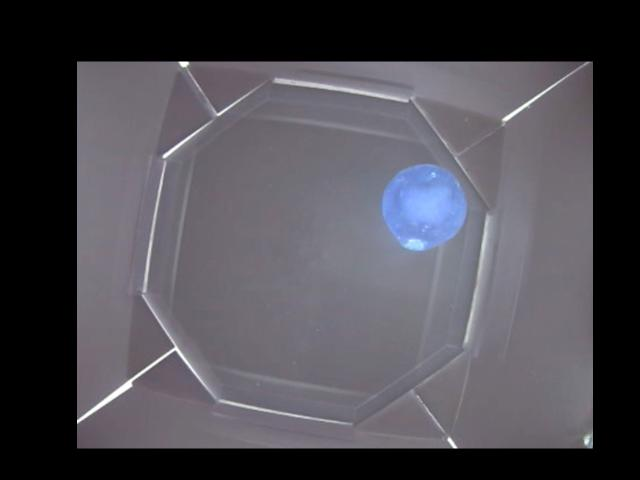Potato: (384, 167, 464, 252)
